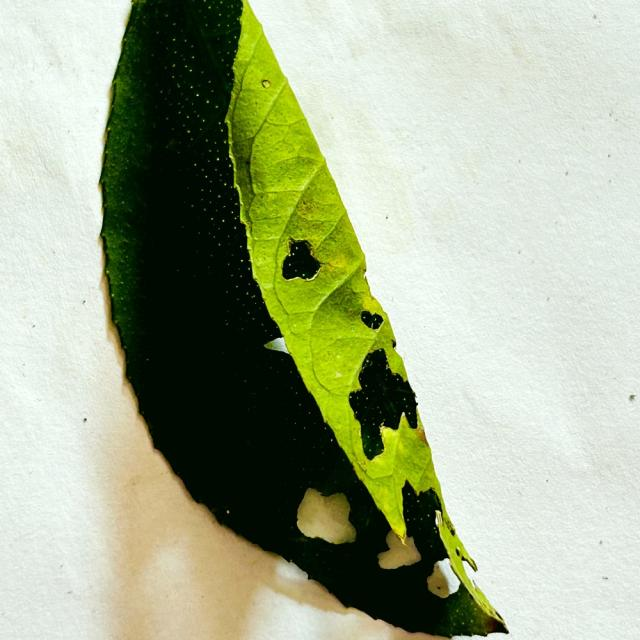Deficiency Leaf: (346, 347, 421, 467), (399, 481, 451, 563), (295, 488, 359, 544), (376, 529, 421, 570), (281, 239, 323, 282), (282, 238, 323, 281), (426, 560, 456, 597), (360, 310, 384, 331), (282, 260, 300, 281), (459, 553, 477, 572), (361, 311, 372, 324), (261, 79, 271, 88), (391, 339, 397, 349), (245, 159, 251, 165)
Lemon: (100, 0, 507, 637)
